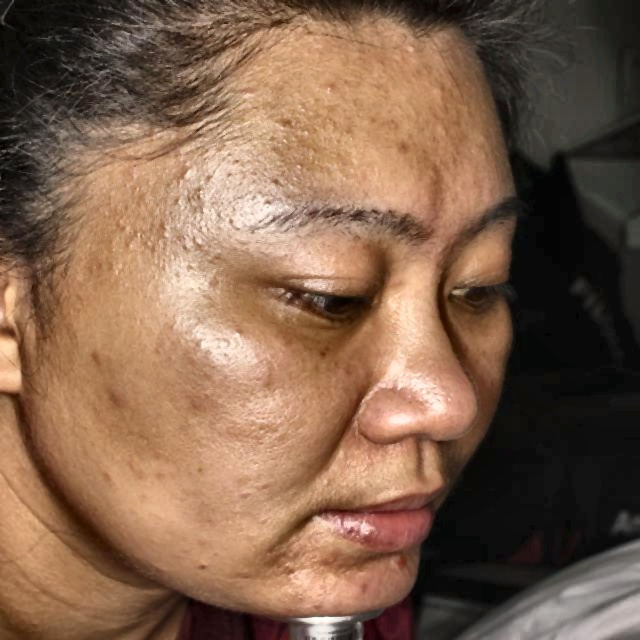comedone: (100, 385, 136, 407), (388, 548, 413, 576), (79, 346, 117, 360), (319, 548, 342, 568), (353, 576, 371, 591)
